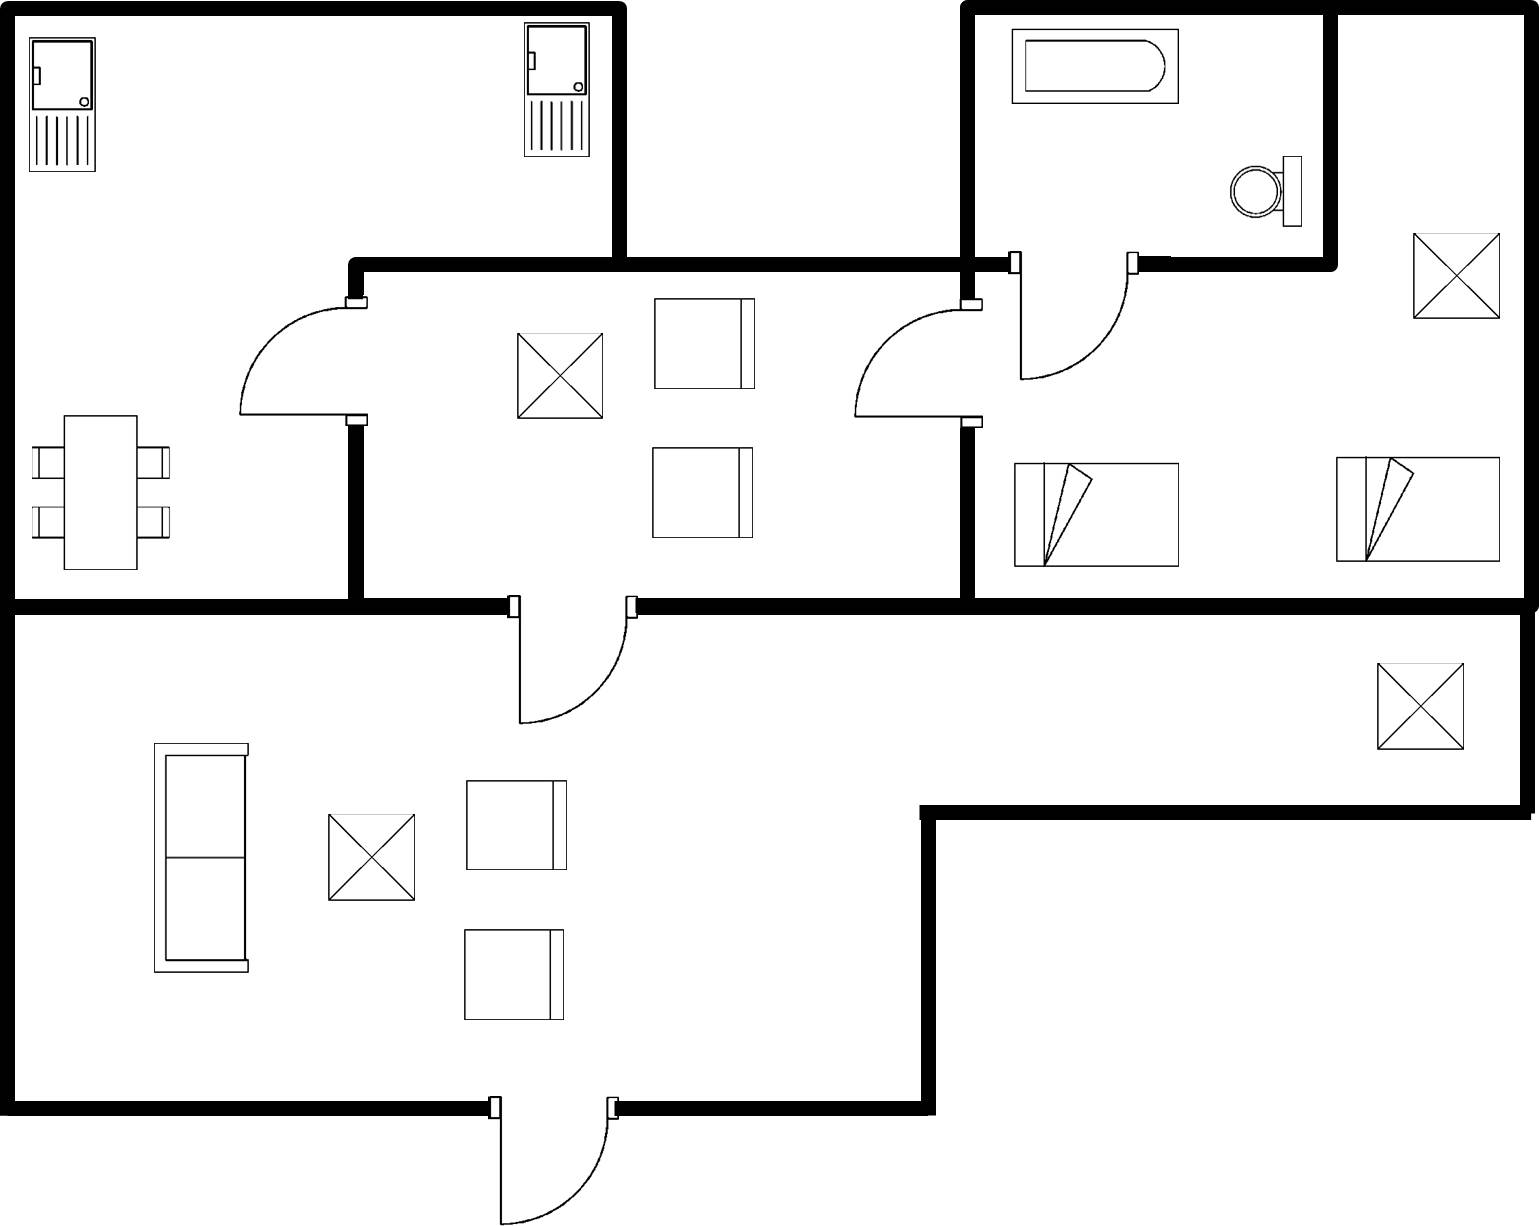bed: (1329, 446, 1513, 572), (1007, 456, 1189, 575)
coffee_table: (317, 803, 427, 915), (1399, 223, 1509, 330), (510, 322, 613, 431), (1371, 654, 1473, 763)
dining_table: (27, 408, 180, 579)
large_sink: (1220, 149, 1311, 240)
large_sofa: (146, 733, 259, 990)
sink: (21, 28, 105, 184), (515, 18, 598, 165)
small_sofa: (455, 919, 573, 1034), (646, 292, 766, 400), (457, 772, 574, 881), (647, 441, 757, 543)
tub: (1004, 21, 1189, 113)
